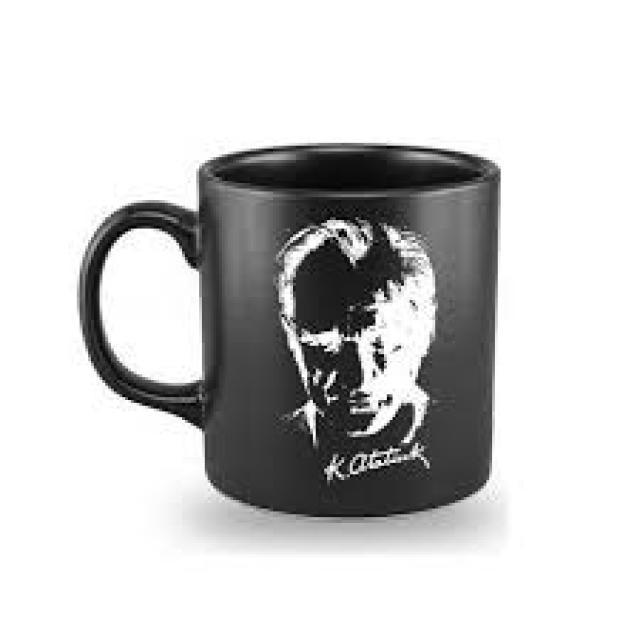taza: (76, 139, 512, 512)
